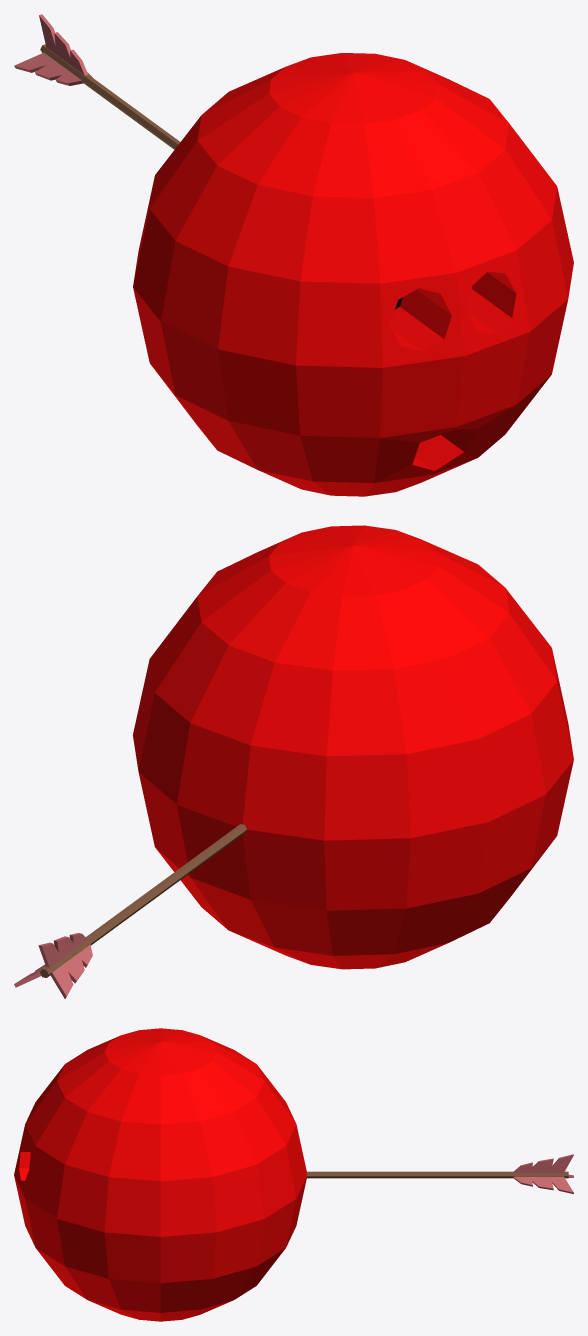
The model's file is Boling_arrow_1.fbx.
3 views of the same model, one above another, from view 1: azimuth 30°, elevation 25°; view 2: azimuth 150°, elevation 25°; view 3: azimuth 270°, elevation 25° (orthographic). The views are drawn at different scales.
Visible parts, largest first — view 1: Arrow; view 2: Arrow; view 3: Arrow.
Boxes of the visible parts, left/top/right/bottom form: Arrow: left=14, top=14, right=573, bottom=496; Arrow: left=14, top=525, right=573, bottom=998; Arrow: left=14, top=1028, right=573, bottom=1321.
Size of the model in its own units: 200 by 200 by 381.
